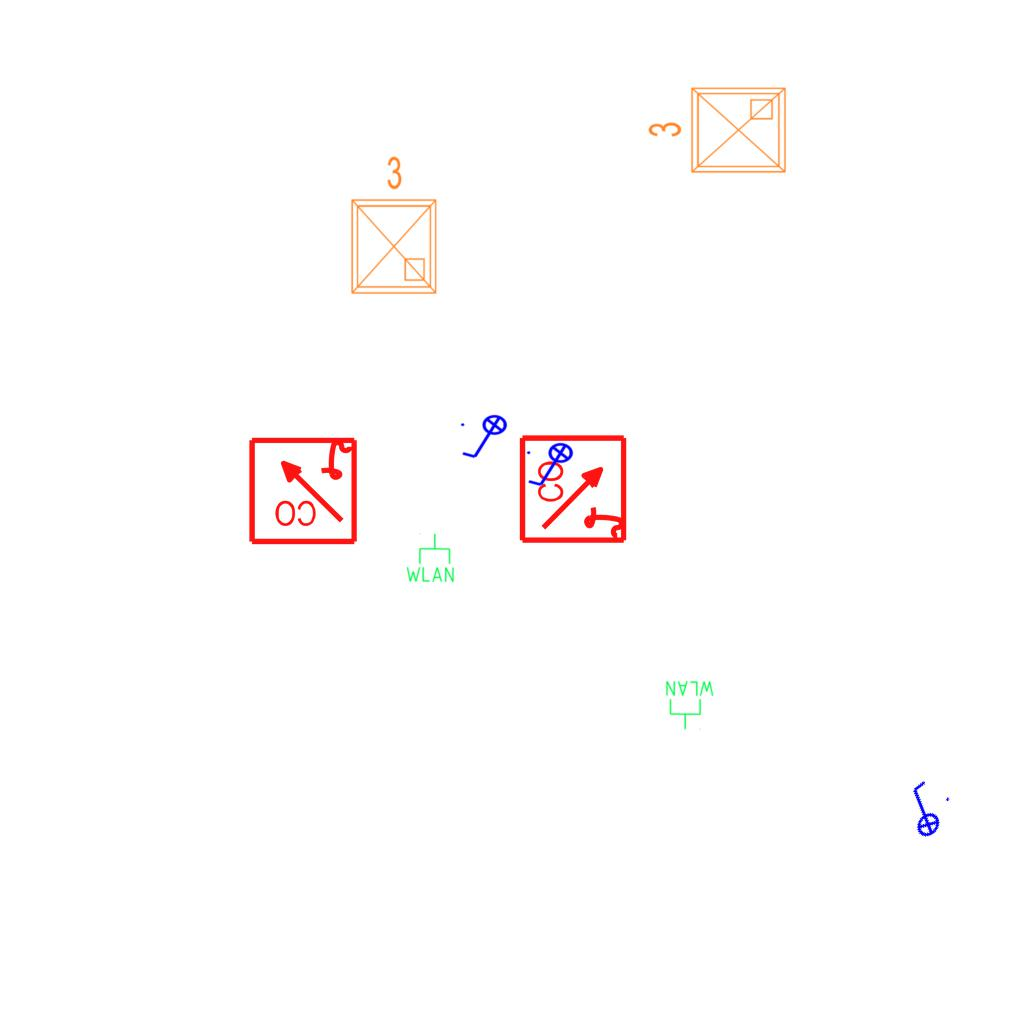Ausschalter_beleuchtet: (886, 773, 960, 847), (458, 414, 514, 462), (524, 442, 580, 490)
Einbaudownlights_LED_Konferenzraeume: (340, 151, 444, 301), (643, 80, 793, 184)
ROA_Rauchmelder_optisch_mit_Signalgeber_(Sockelsirene): (518, 432, 631, 545), (246, 433, 359, 546)
WLAN: (404, 532, 456, 584), (664, 679, 716, 731)
